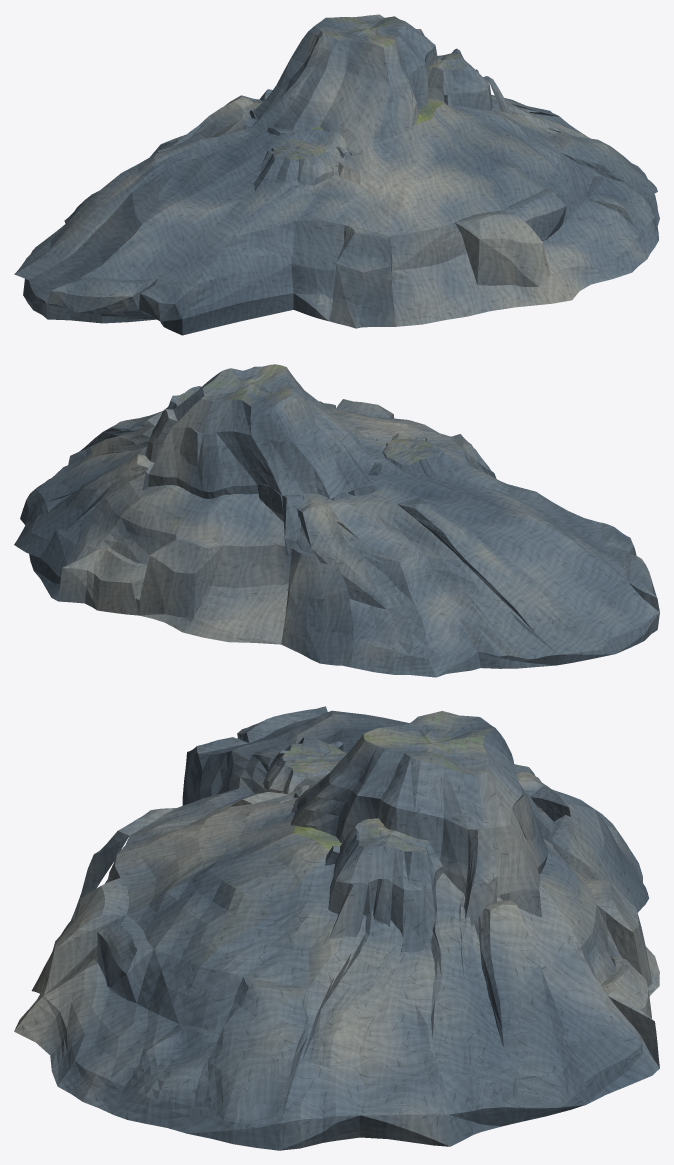
The picture shows the model from 3 angles, top to bottom: view 1: azimuth 30°, elevation 25°; view 2: azimuth 150°, elevation 25°; view 3: azimuth 270°, elevation 25°; orthographic projection. The views are drawn at different scales.
Visible parts, largest first — view 1: F09_stone; view 2: F09_stone; view 3: F09_stone.
Boxes of the visible parts, left/top/right/bottom form: F09_stone: left=14, top=14, right=659, bottom=335; F09_stone: left=14, top=364, right=659, bottom=677; F09_stone: left=14, top=706, right=659, bottom=1150.
Bounding box in the file's own units: 18.72 × 5.62 × 12.63.
Materials: 1 (1 with a texture image).
